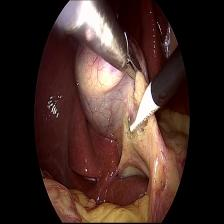Grasper: (104, 27, 144, 82)
Hook: (125, 84, 159, 148)
